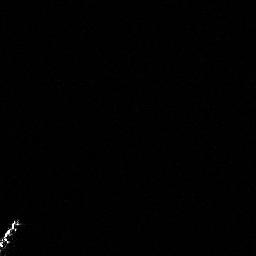ship: (1, 217, 22, 256)
